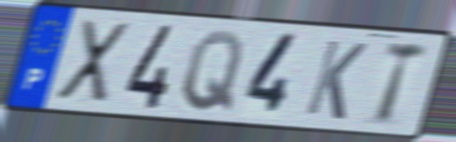4: (242, 29, 299, 122), (123, 22, 175, 112)
K: (301, 36, 370, 123)
Q: (178, 28, 247, 115)
T: (374, 38, 432, 128)
X: (51, 17, 133, 109)
